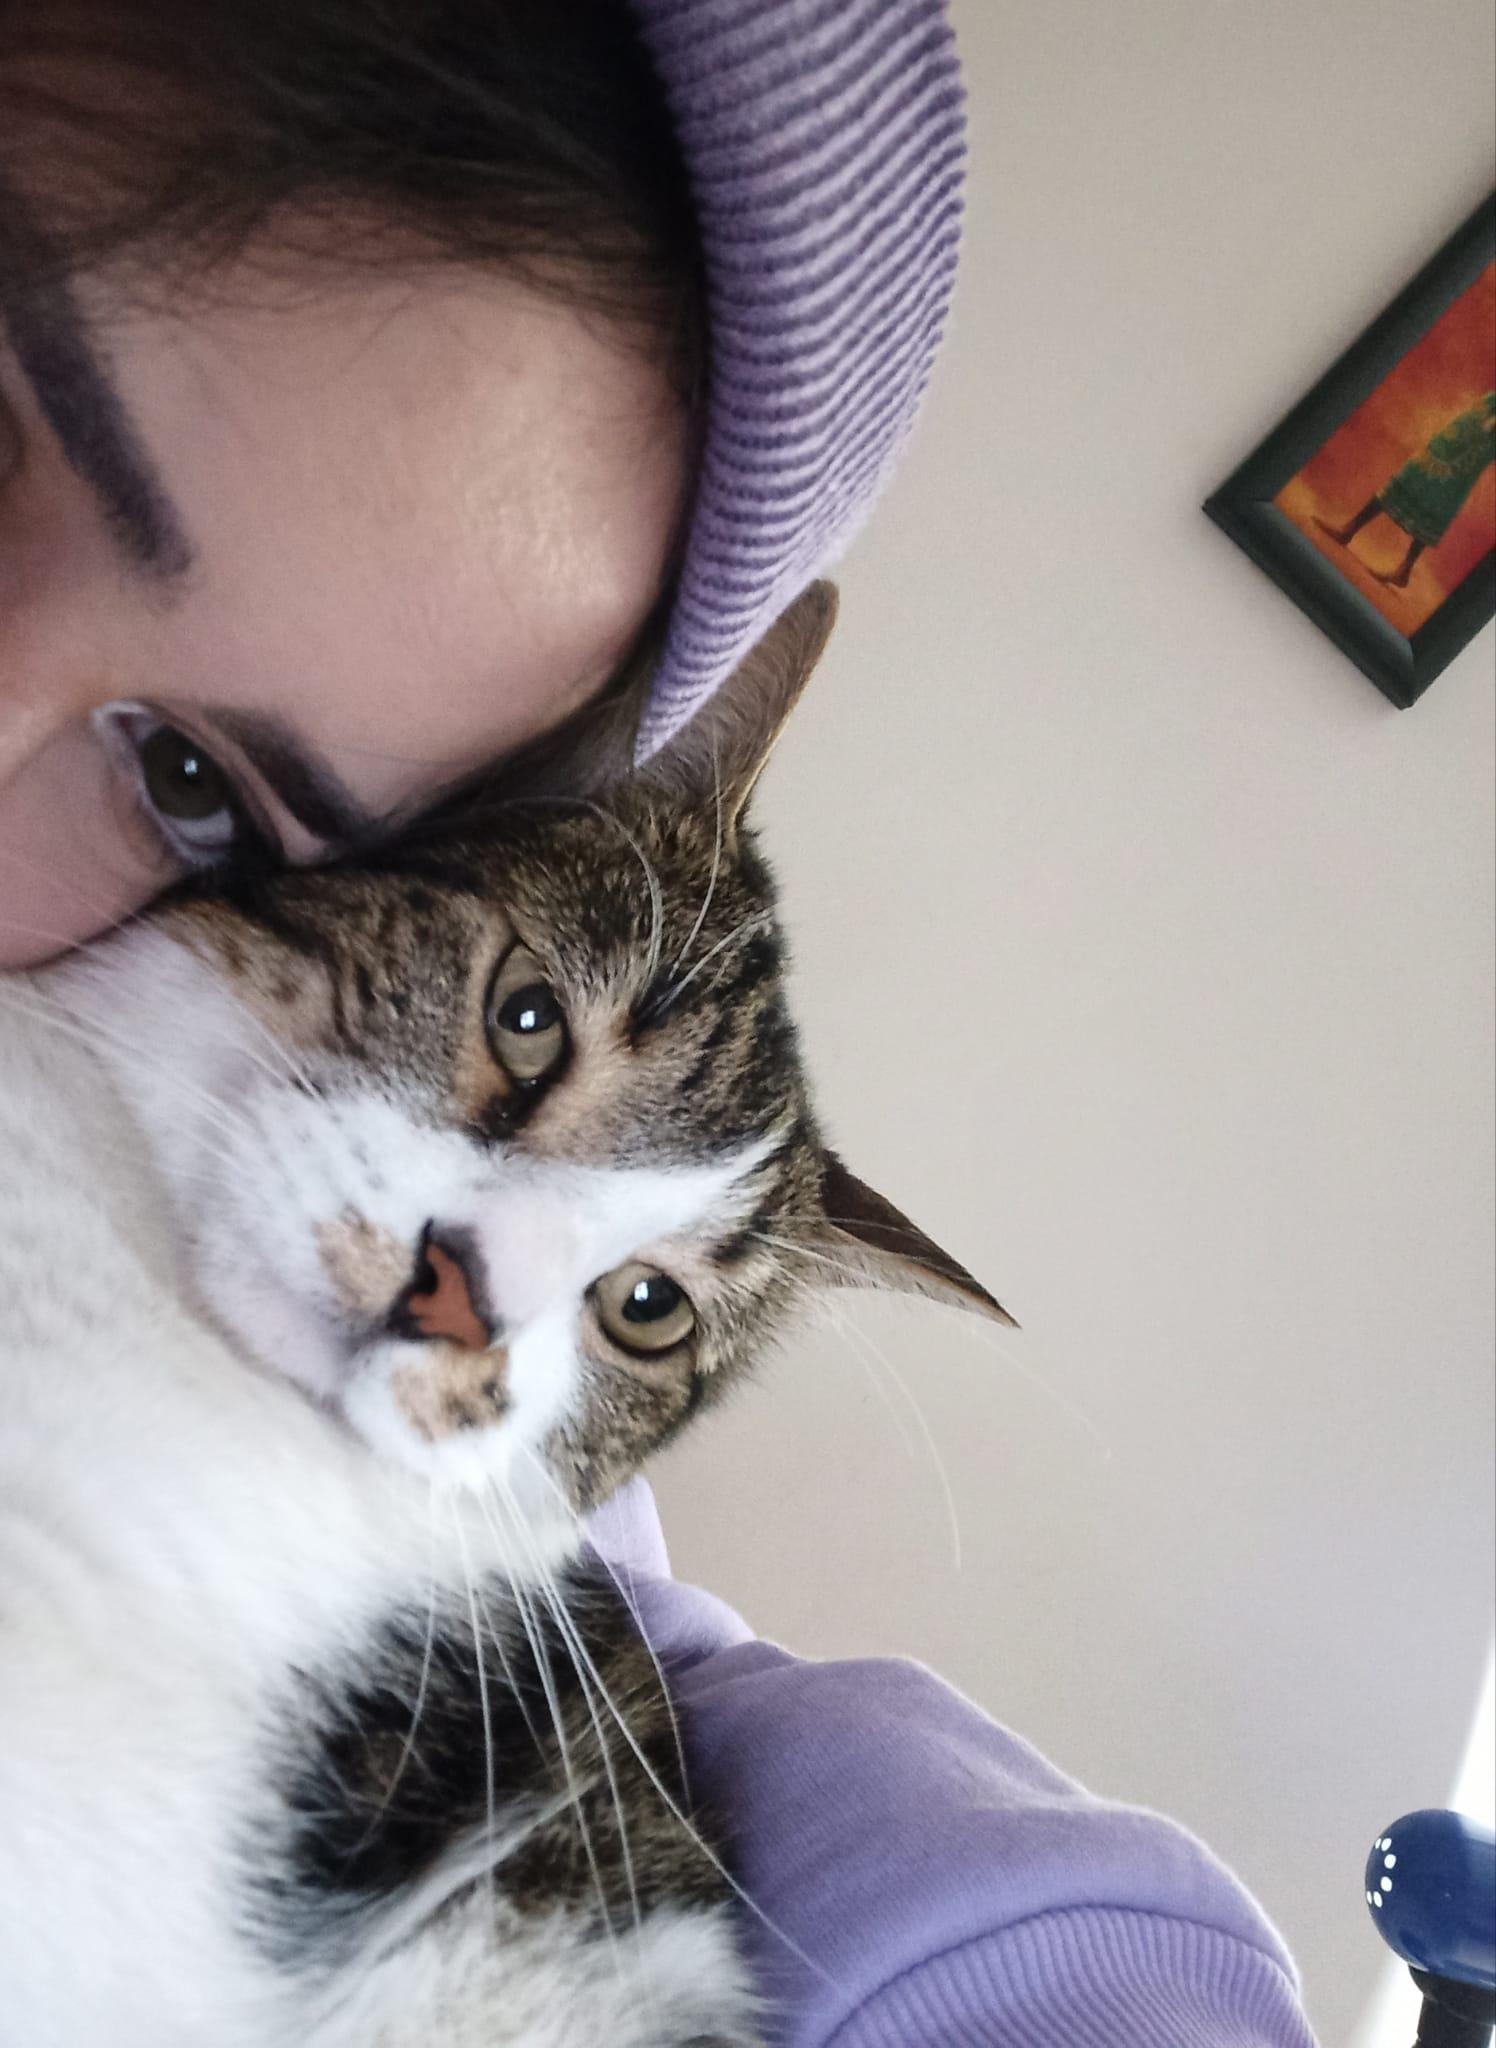kedo: (0, 595, 1010, 2042)
